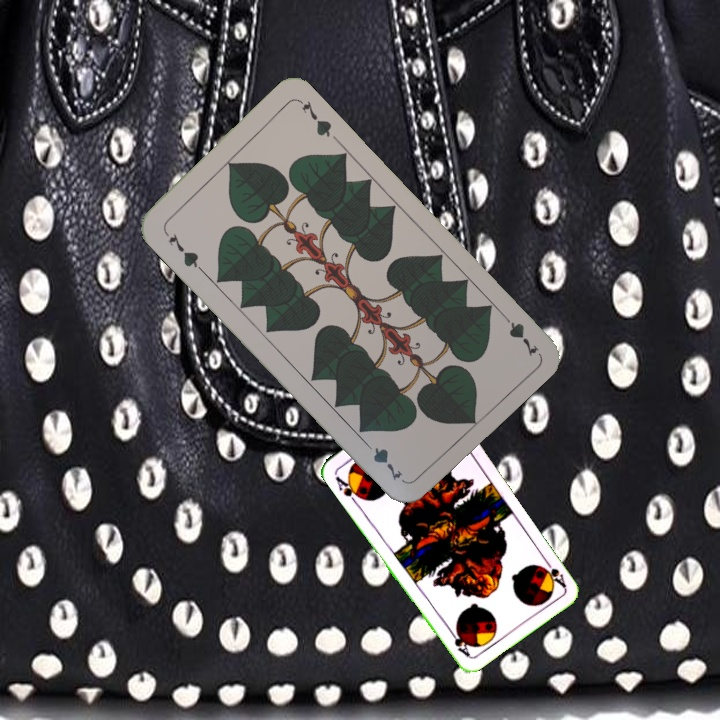G7: (495, 307, 542, 359), (164, 230, 205, 273)
SA: (536, 554, 569, 590), (331, 472, 365, 506)
